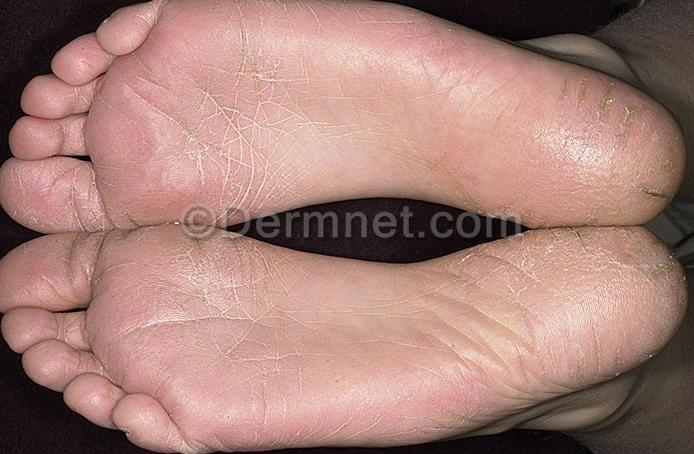xerosis 2: (0, 0, 682, 448)
